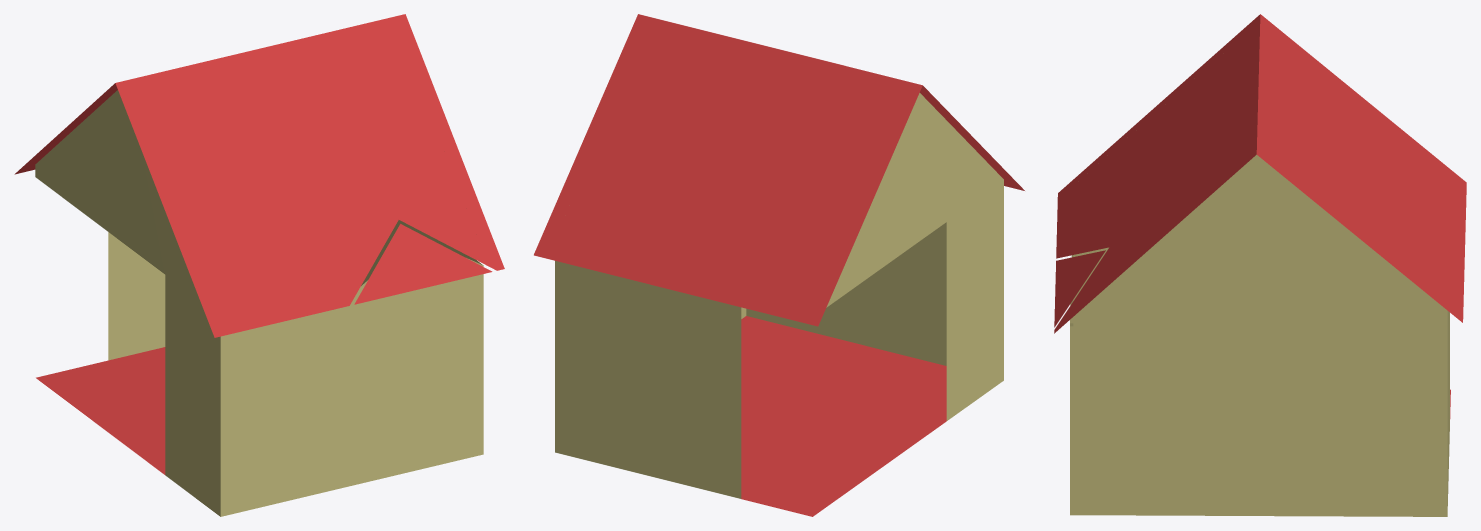
3 renders of one model, left to right at view 1: azimuth 30°, elevation 25°; view 2: azimuth 150°, elevation 25°; view 3: azimuth 270°, elevation 25°, orthographic.
Bounding box in the file's own units: 10.76 × 13.16 × 12.95.
